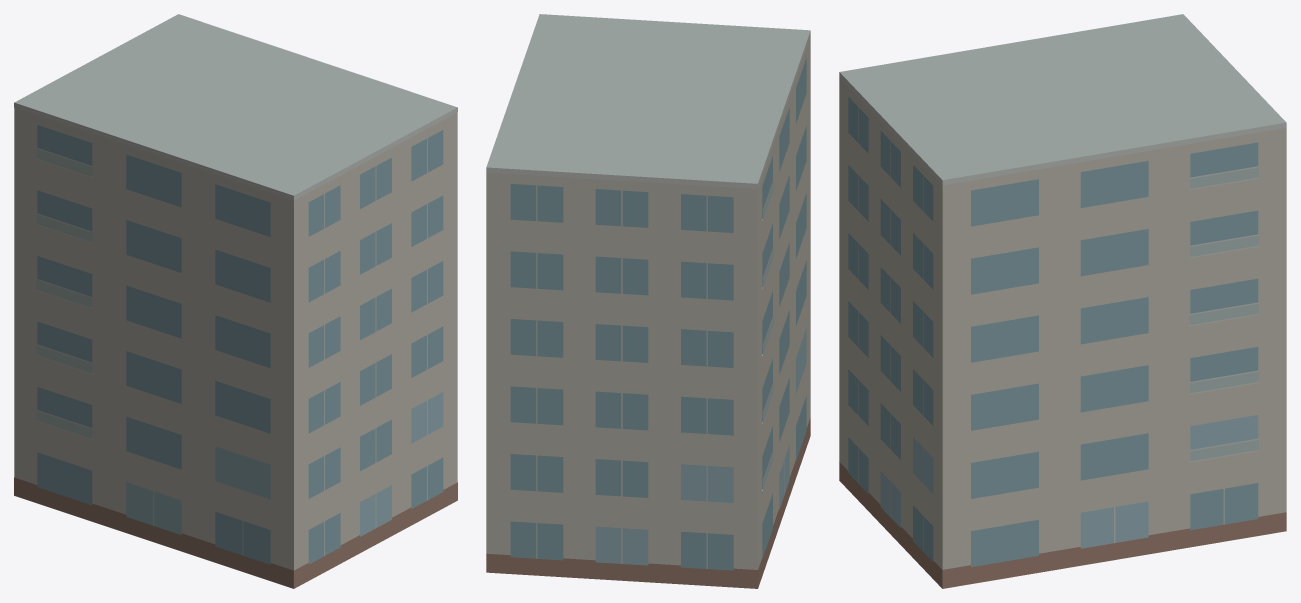
File: survey-upis-32748091.glb
3 renders of one model, left to right at view 1: azimuth 30°, elevation 25°; view 2: azimuth 150°, elevation 25°; view 3: azimuth 270°, elevation 25°, orthographic. The views are drawn at different scales.
Visible parts, largest first — view 1: survey-upis-32748091.tmp; view 2: survey-upis-32748091.tmp; view 3: survey-upis-32748091.tmp.
Boxes of the visible parts, left/top/right/bottom form: survey-upis-32748091.tmp: left=14, top=14, right=457, bottom=588; survey-upis-32748091.tmp: left=486, top=14, right=810, bottom=588; survey-upis-32748091.tmp: left=839, top=14, right=1286, bottom=588.
Size of the model in its own units: 16.76 by 19.2 by 19.05.
